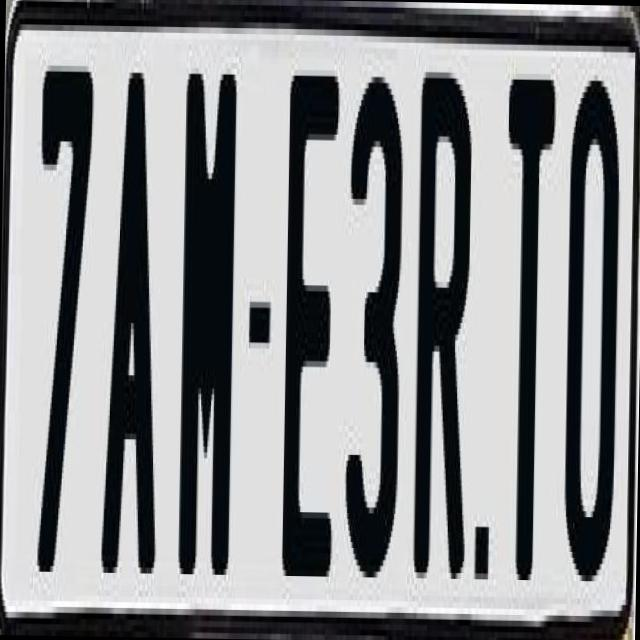0: (560, 68, 623, 581)
3: (340, 65, 402, 578)
7: (33, 59, 96, 572)
A: (98, 71, 165, 584)
E: (277, 70, 337, 582)
M: (175, 73, 235, 580)
T: (499, 61, 561, 592)
